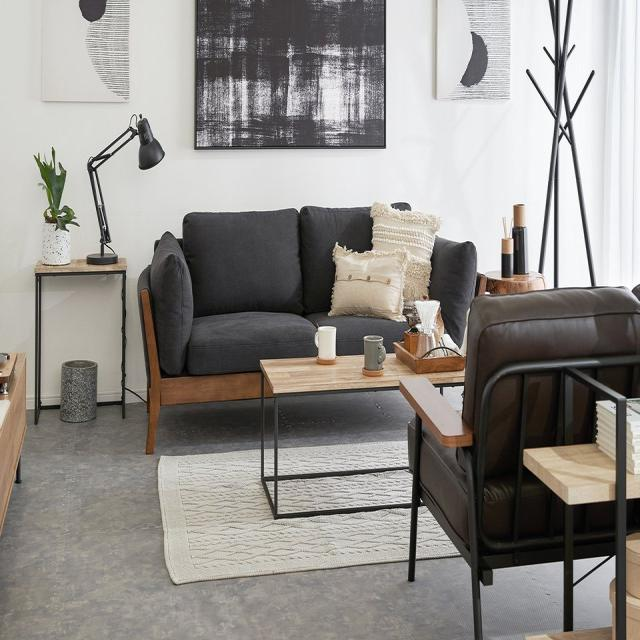vintage chair: (410, 283, 640, 640)
vintage desk: (258, 352, 503, 515), (33, 255, 130, 419)
vintage sofa: (135, 204, 479, 451)
